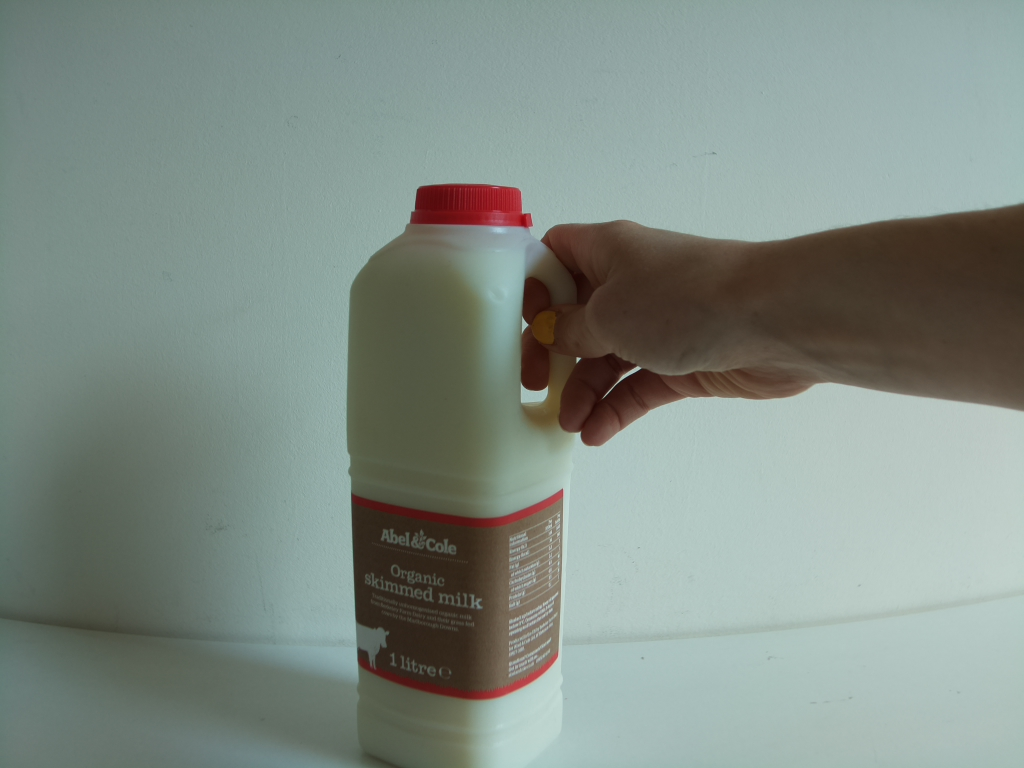milk: (333, 173, 568, 768)
